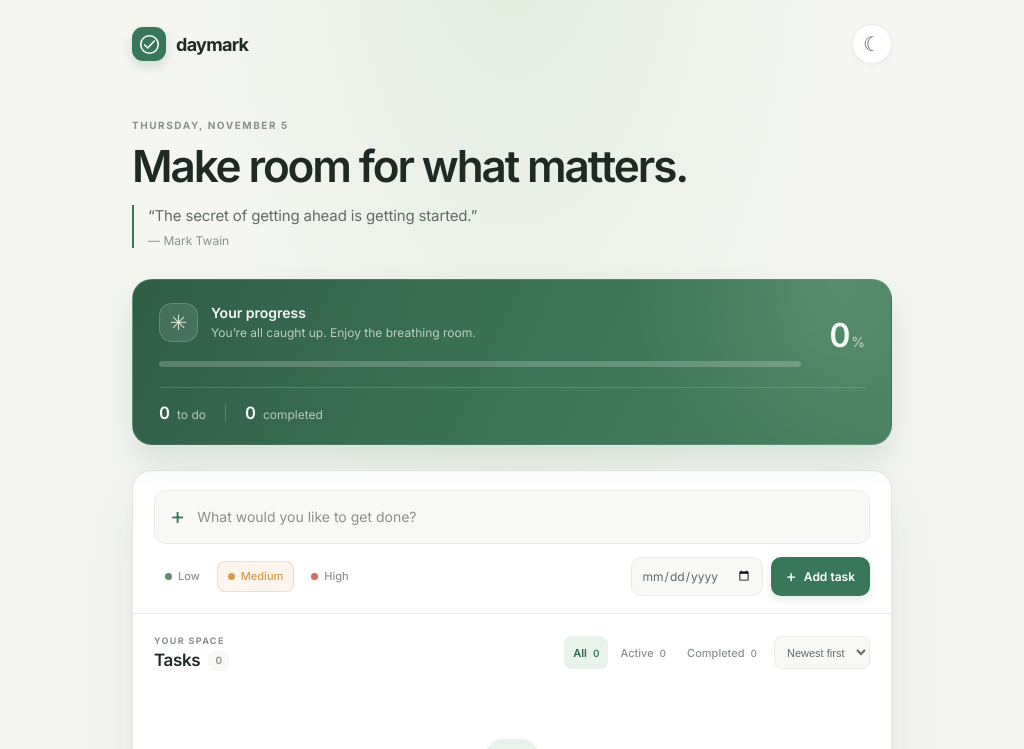
explains when the task field is empty
Click the button "+ Add task" at (820, 576), box x1=771 y1=557 x2=870 y2=596
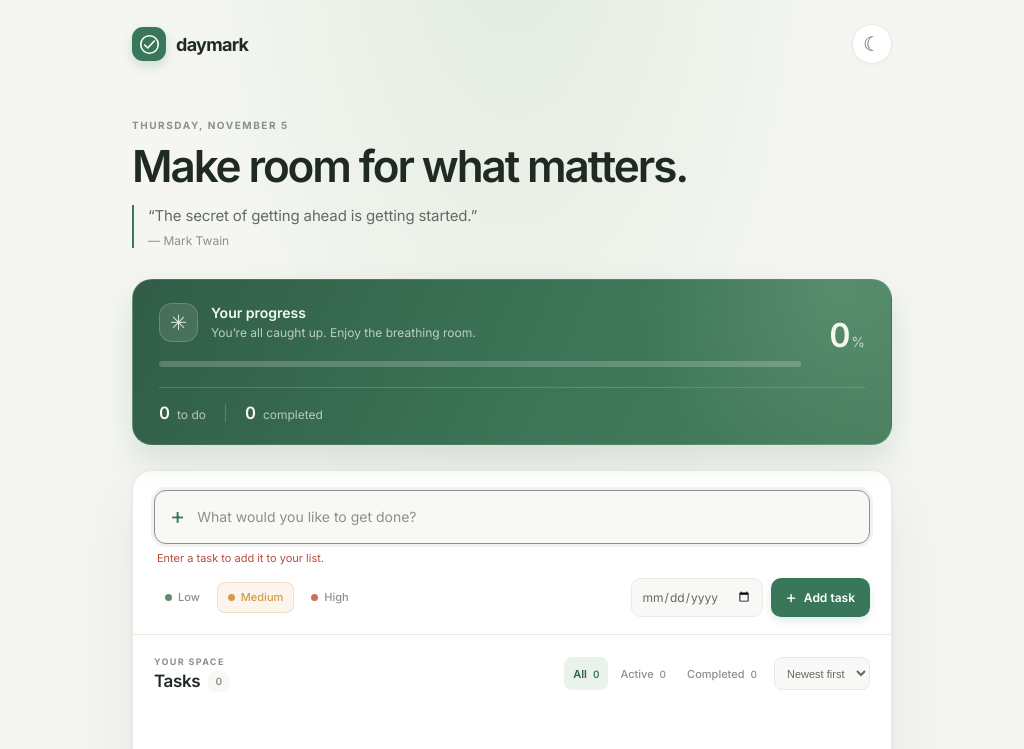
Now the message reads "Enter a task to add it to your list.", box x1=157 y1=551 x2=324 y2=565
